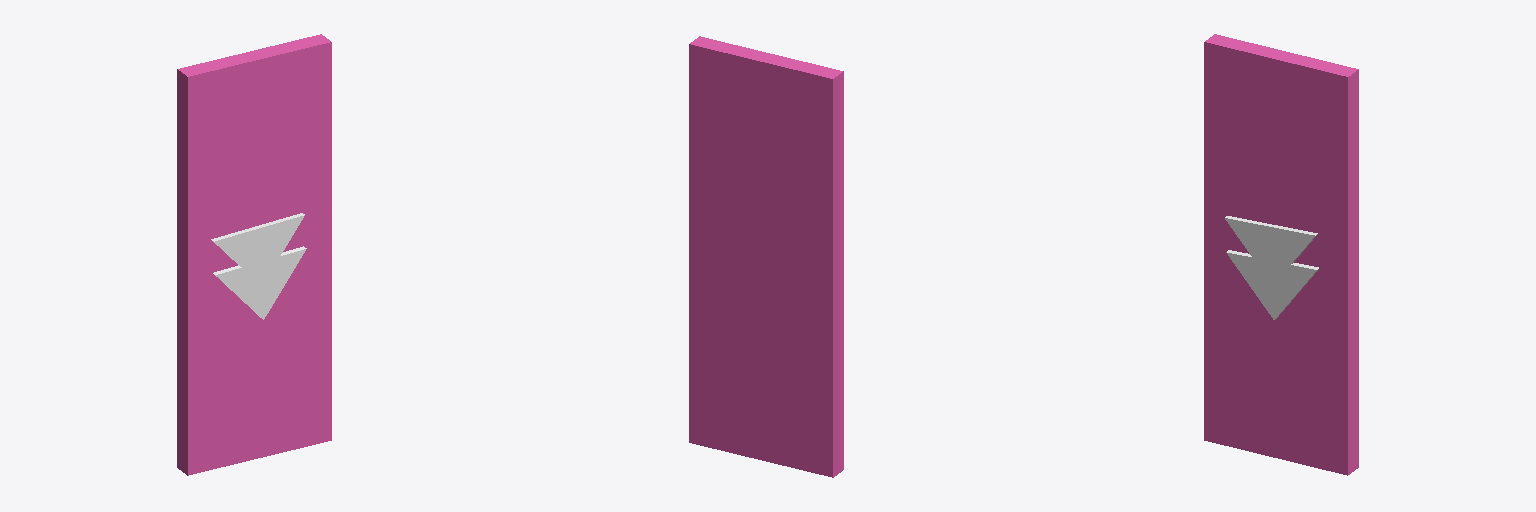
File: xiafan.obj
3 renders of one model, left to right at view 1: azimuth 30°, elevation 25°; view 2: azimuth 150°, elevation 25°; view 3: azimuth 330°, elevation 25°, orthographic.
Visible parts, largest first — view 1: 立方体_立方体.006, Cube.002_Cube.005; view 2: 立方体_立方体.006; view 3: 立方体_立方体.006, Cube.002_Cube.005.
Part boxes in pixels (bbox=[...]): 立方体_立方体.006: bbox=[177, 34, 331, 475]; Cube.002_Cube.005: bbox=[211, 213, 306, 319]; 立方体_立方体.006: bbox=[689, 36, 843, 477]; 立方体_立方体.006: bbox=[1204, 34, 1358, 475]; Cube.002_Cube.005: bbox=[1225, 216, 1318, 319].
Size of the model in its own units: 0.5655 by 1.49 by 0.0927.